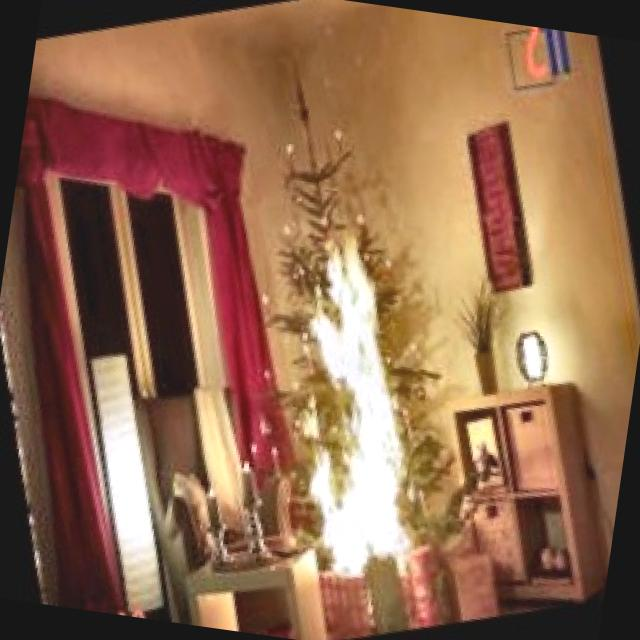fire: (187, 173, 490, 602)
